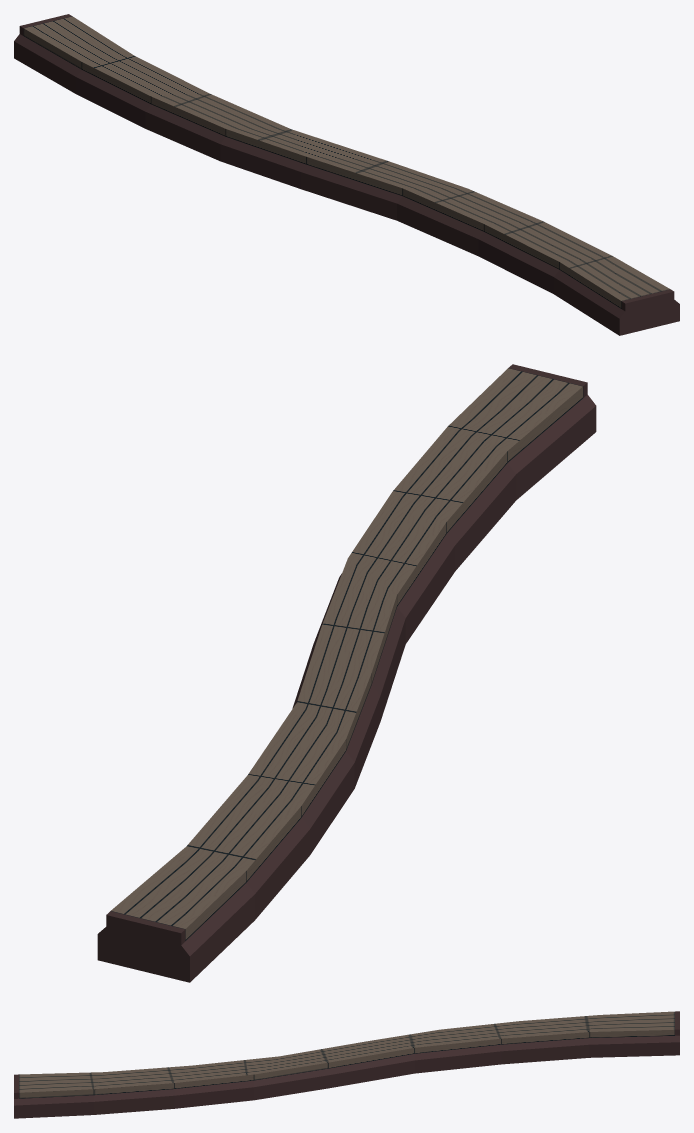
Rendered from SW_ENV_EL_TrackBase_Jog_Walkway_Central_20m.fbx.
The picture shows the model from 3 angles, top to bottom: view 1: azimuth 30°, elevation 25°; view 2: azimuth 150°, elevation 25°; view 3: azimuth 270°, elevation 25°; orthographic projection. The views are drawn at different scales.
Parts seen in each view (by area): view 1: SW_ENV_EL_TrackBase_Jog_Walkway_Central_20m; view 2: SW_ENV_EL_TrackBase_Jog_Walkway_Central_20m; view 3: SW_ENV_EL_TrackBase_Jog_Walkway_Central_20m.
Part boxes in pixels (<box>): SW_ENV_EL_TrackBase_Jog_Walkway_Central_20m: <box>14,14,679,335</box>; SW_ENV_EL_TrackBase_Jog_Walkway_Central_20m: <box>97,364,596,982</box>; SW_ENV_EL_TrackBase_Jog_Walkway_Central_20m: <box>14,1011,679,1118</box>.
Bounding box in the file's own units: 610 × 78.5 × 2000.
